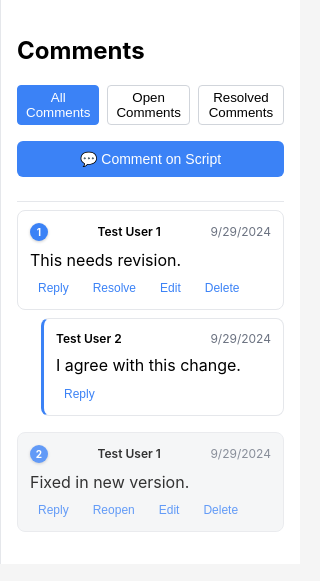
CommentSidebar › Filter Functionality › should filter to show only resolved comments
The image size is (320, 581).
Click the button "Resolved Comments" at {"x": 241, "y": 105}, box [198,85,284,125]
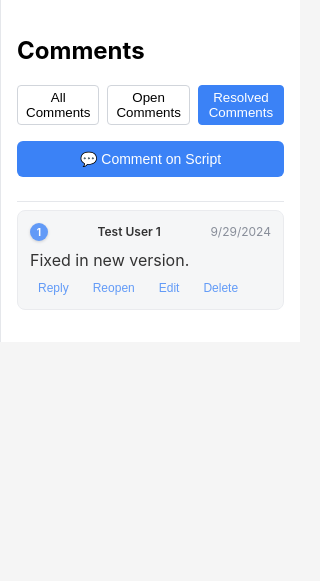
Expected: the text "Fixed in new version." is shown, [30,250,189,270]
Expected: the text "This needs revision." is gone
Expected: the text "I agree with this change." is gone
